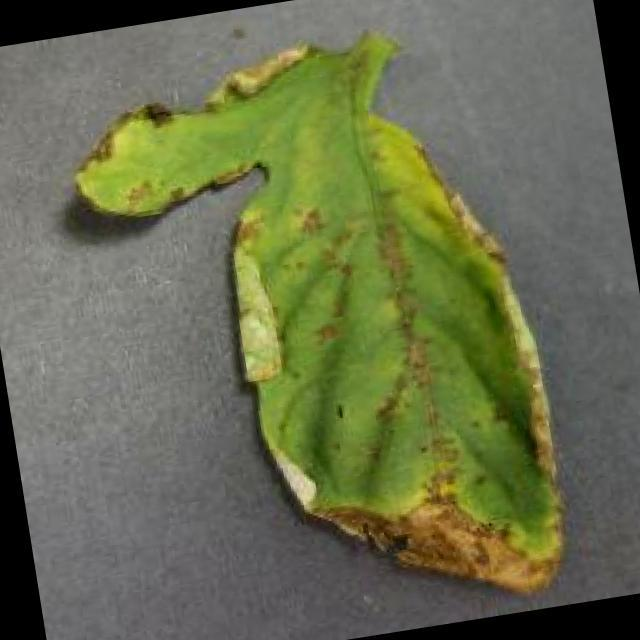Tomato bacterial spot leaf: (50, 9, 583, 640)
